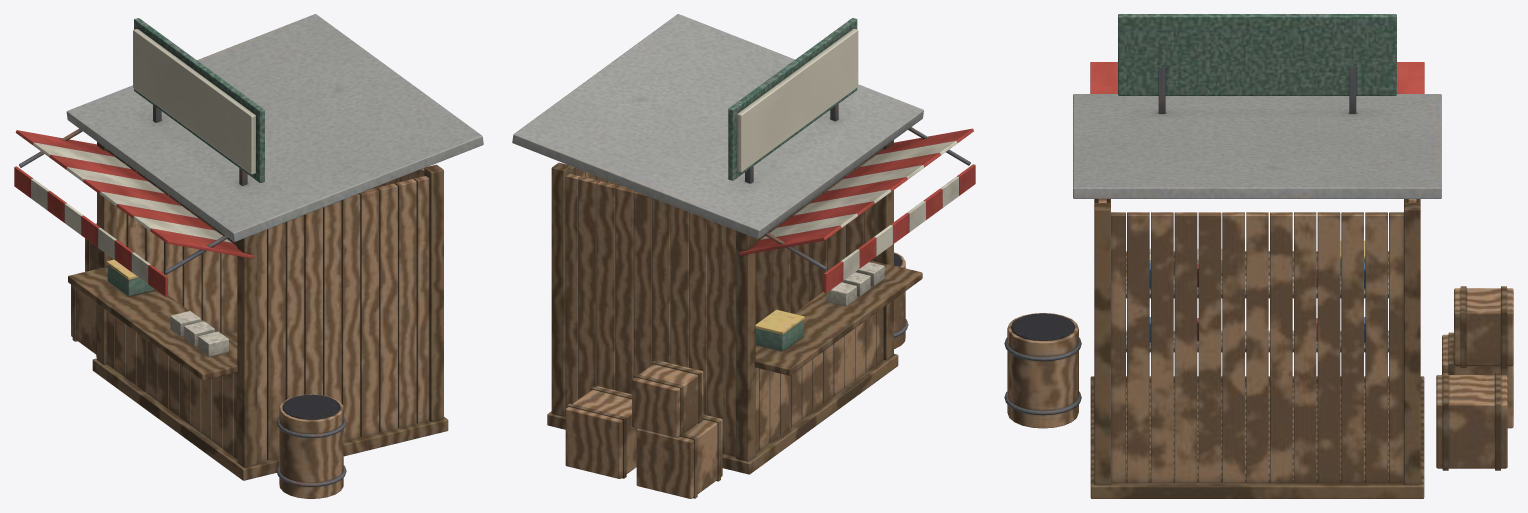
File: shop_kiosk.glb
3 renders of one model, left to right at view 1: azimuth 30°, elevation 25°; view 2: azimuth 150°, elevation 25°; view 3: azimuth 270°, elevation 25°, orthographic. The views are drawn at different scales.
Visible parts, largest first — view 1: ShopKiosk; view 2: ShopKiosk; view 3: ShopKiosk.
Boxes of the visible parts, x1,y1,x2,y2 form: ShopKiosk: (14,14,483,498); ShopKiosk: (512,14,975,498); ShopKiosk: (1004,14,1513,498).
Bounding box in the file's own units: 3.33 × 3.63 × 4.28.
Materials: 15 (15 with a texture image).
